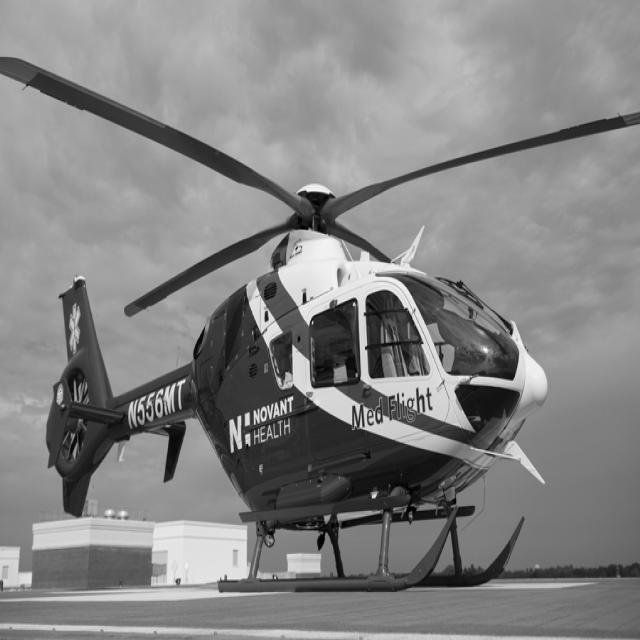helicopter: (1, 58, 640, 587)
